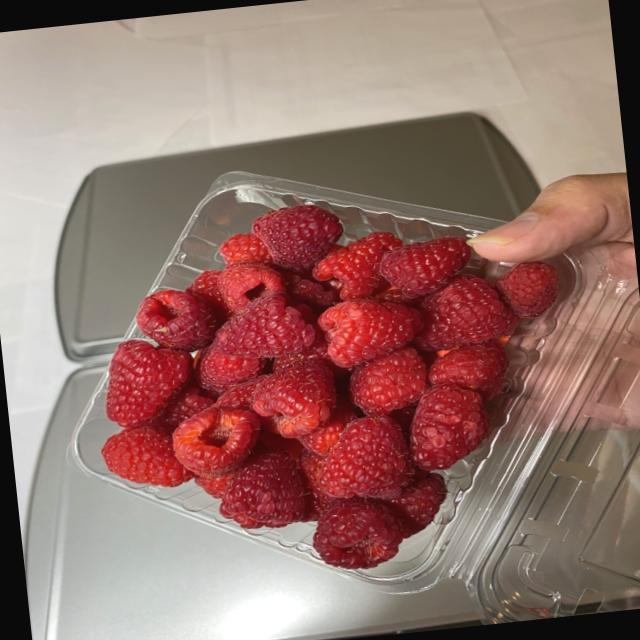raspberries: (96, 198, 564, 520)
